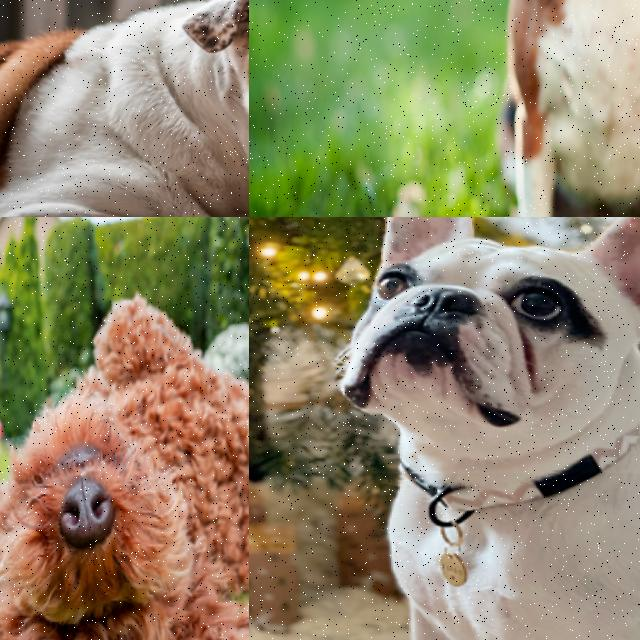bulldog: (300, 217, 640, 489), (141, 0, 249, 195)
poodle: (0, 346, 249, 640)
